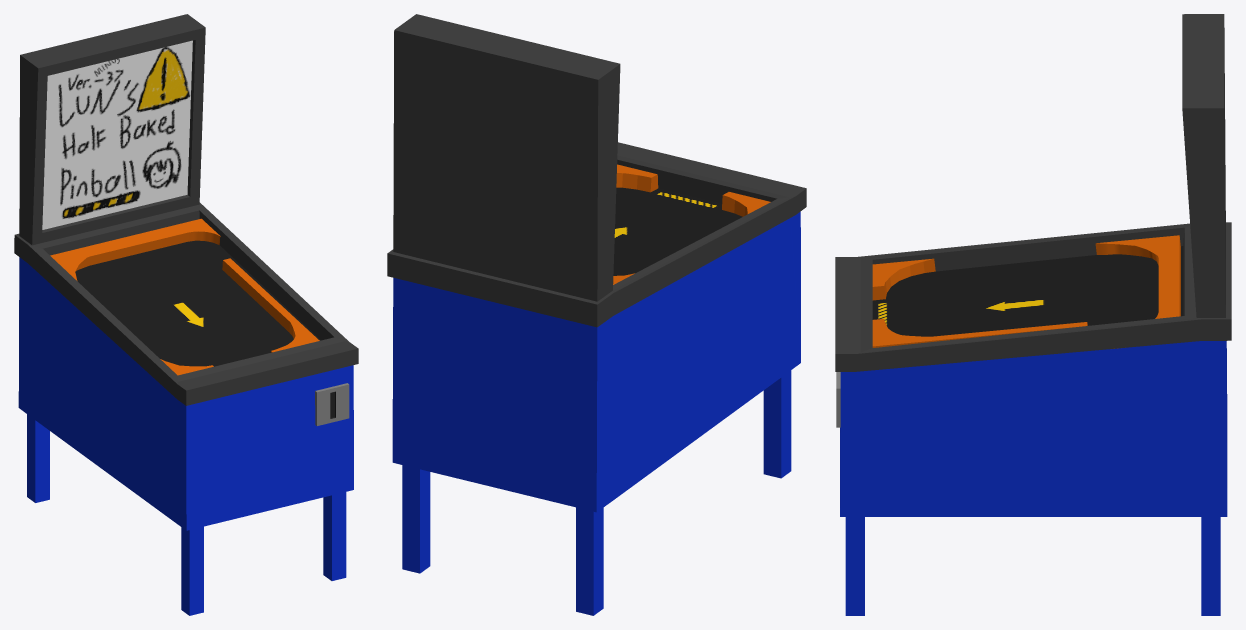
The model's file is bumper_zx.fbx_Pinball_Machine.fbx.
The picture shows the model from 3 angles, left to right: view 1: azimuth 30°, elevation 25°; view 2: azimuth 150°, elevation 25°; view 3: azimuth 270°, elevation 25°; orthographic projection. The views are drawn at different scales.
Parts seen in each view (by area): view 1: Cube.002, Cube.008, Cube; view 2: Cube.002, Cube.008; view 3: Cube.002, Cube.008.
Boxes of the visible parts, left/top/right/bottom form: Cube.002: left=14, top=14, right=358, bottom=615; Cube.008: left=50, top=218, right=319, bottom=375; Cube: left=315, top=383, right=349, bottom=425; Cube.002: left=387, top=14, right=806, bottom=615; Cube.008: left=613, top=164, right=770, bottom=284; Cube.002: left=835, top=14, right=1231, bottom=615; Cube.008: left=872, top=235, right=1180, bottom=348.
Size of the model in its own units: 207 by 509 by 358.
